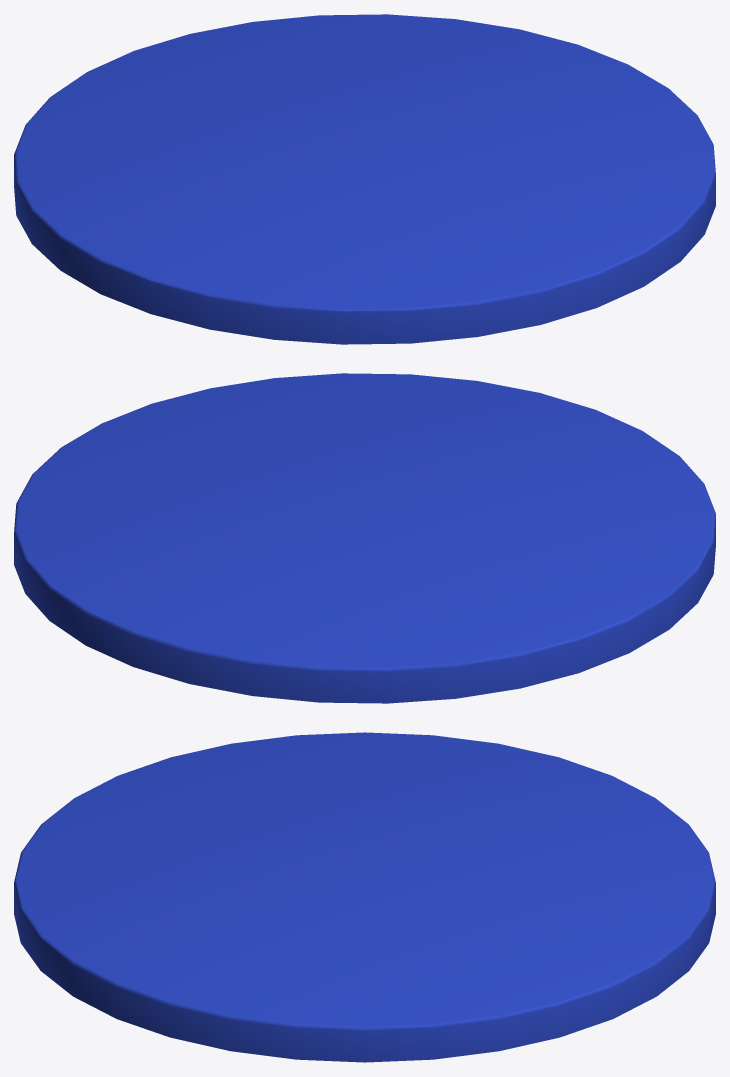
File: MSH_table_ronde.fbx
The picture shows the model from 3 angles, top to bottom: view 1: azimuth 30°, elevation 25°; view 2: azimuth 150°, elevation 25°; view 3: azimuth 270°, elevation 25°; orthographic projection.
Parts seen in each view (by area): view 1: table_ronde_low; view 2: table_ronde_low; view 3: table_ronde_low.
Part boxes in pixels (<box>): table_ronde_low: <box>14,14,715,344</box>; table_ronde_low: <box>14,373,715,703</box>; table_ronde_low: <box>14,732,715,1062</box>.
Size of the model in its own units: 135 by 23.91 by 135.
